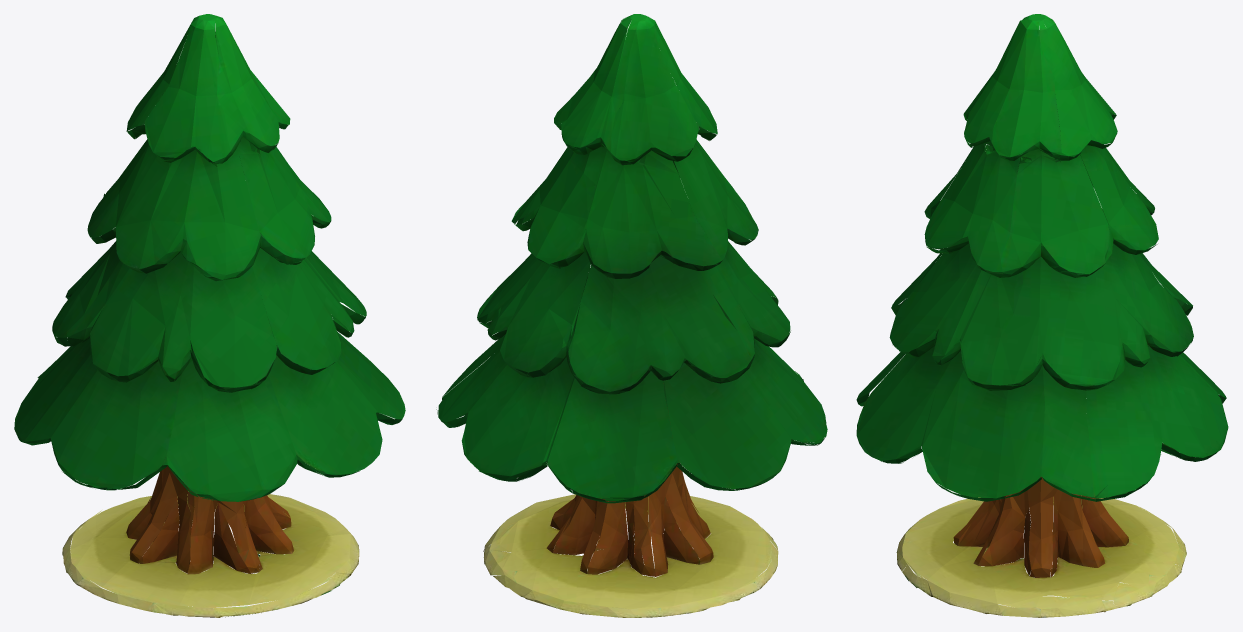
File: pointed_tree.glb
3 renders of one model, left to right at view 1: azimuth 30°, elevation 25°; view 2: azimuth 150°, elevation 25°; view 3: azimuth 270°, elevation 25°, orthographic.
Parts seen in each view (by area): view 1: geometry_0; view 2: geometry_0; view 3: geometry_0.
Boxes of the visible parts, bbox=[...] form: geometry_0: bbox=[14, 14, 405, 617]; geometry_0: bbox=[436, 14, 827, 617]; geometry_0: bbox=[856, 14, 1228, 617].
Size of the model in its own units: 0.6506 by 1 by 0.6291.
Materials: 1 (1 with a texture image).
